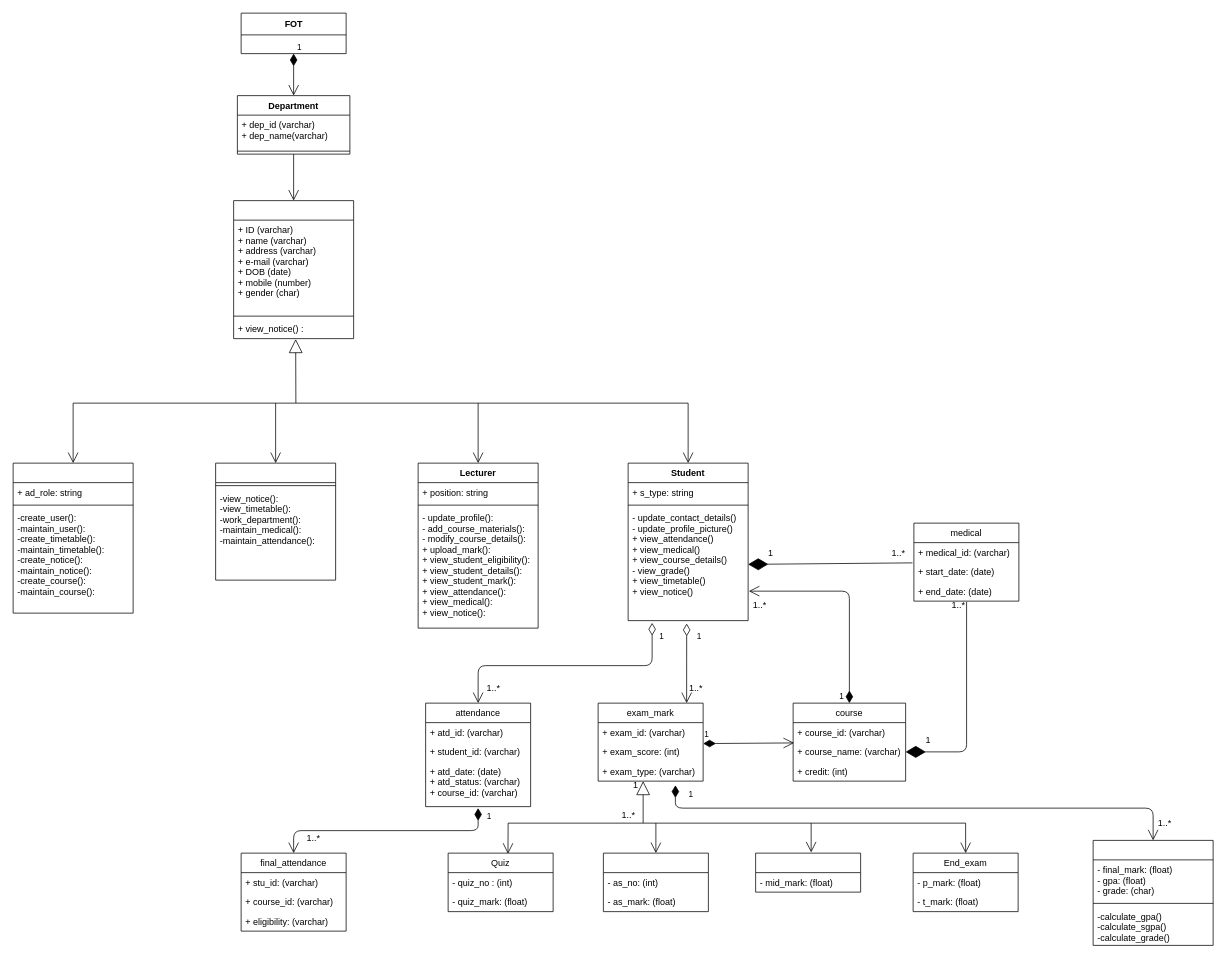
The diagram is 1226 pixels wide and 961 high, and some of its shapes have lost their labels. The box of each missing label's shape, as (x1, y1, x2, y2) in pixels:
Admin: (12, 462, 133, 613)
Assessment: (603, 852, 708, 912)
final_exam: (1092, 840, 1213, 945)
Mid_exam: (755, 852, 861, 892)
Technical officer: (215, 462, 336, 580)
User: (233, 200, 354, 339)
